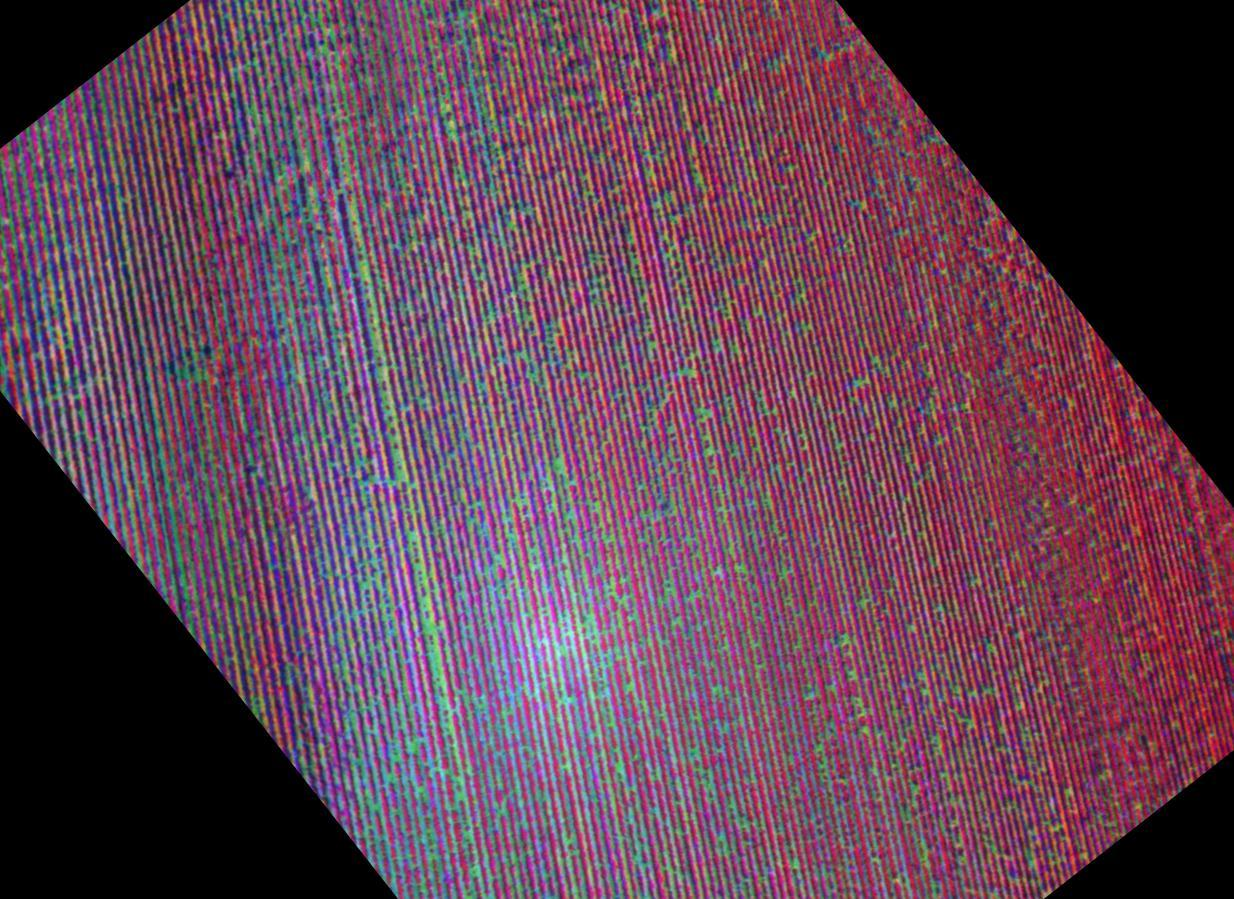dc: (129, 312, 287, 440), (523, 569, 629, 695), (415, 65, 510, 196)
